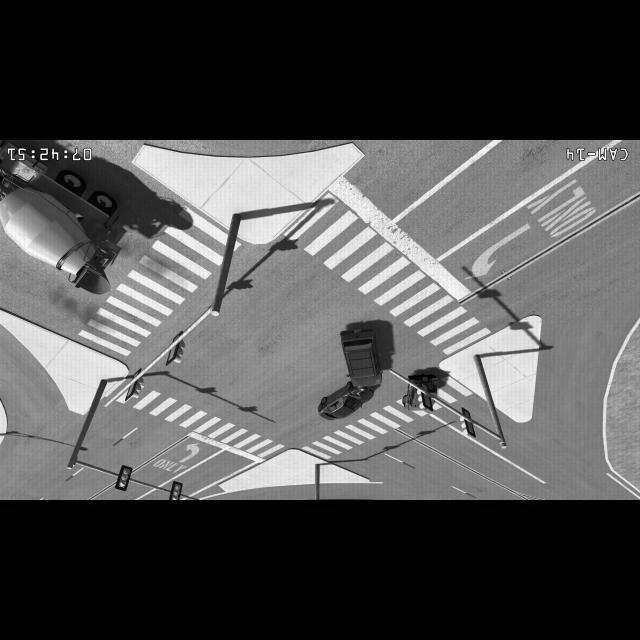moderate: (316, 324, 386, 422)
